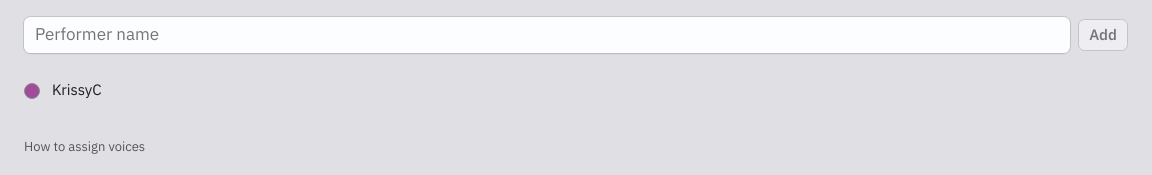
Scenario: PerformersPanel › the rename field opens on the name the row is currently showing
Step 1. Click the button with aria-label "Rename KrissyC" → (77, 90), box [52,79,1092,102]
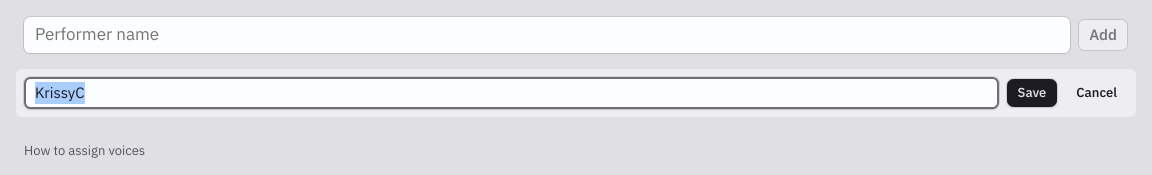
Result: the field named "Performer name" holds "KrissyC" at [24,76,998,109]
